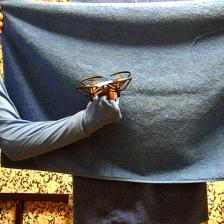drone: (76, 71, 132, 98)
